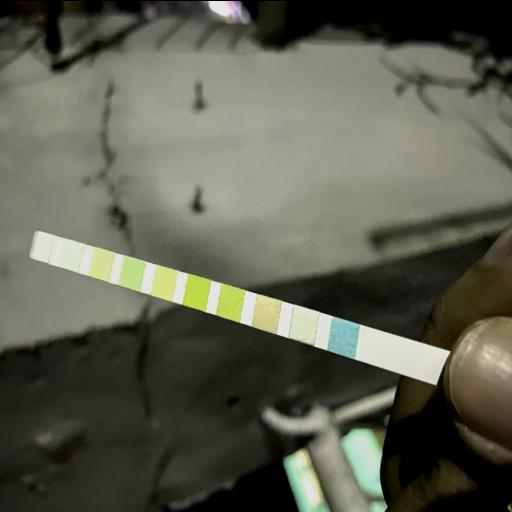Bilirubin: (292, 309, 316, 337)
Blood: (186, 276, 208, 304)
Glucose: (332, 322, 355, 350)
Ketone: (256, 298, 278, 326)
Leukocytes: (34, 233, 50, 255)
Nitrite: (65, 242, 79, 266)
Protein: (123, 258, 142, 285)
SpGravity: (220, 288, 240, 316)
Urobilinogen: (94, 250, 111, 276)
pH: (155, 268, 174, 294)
strip: (31, 228, 446, 385)
